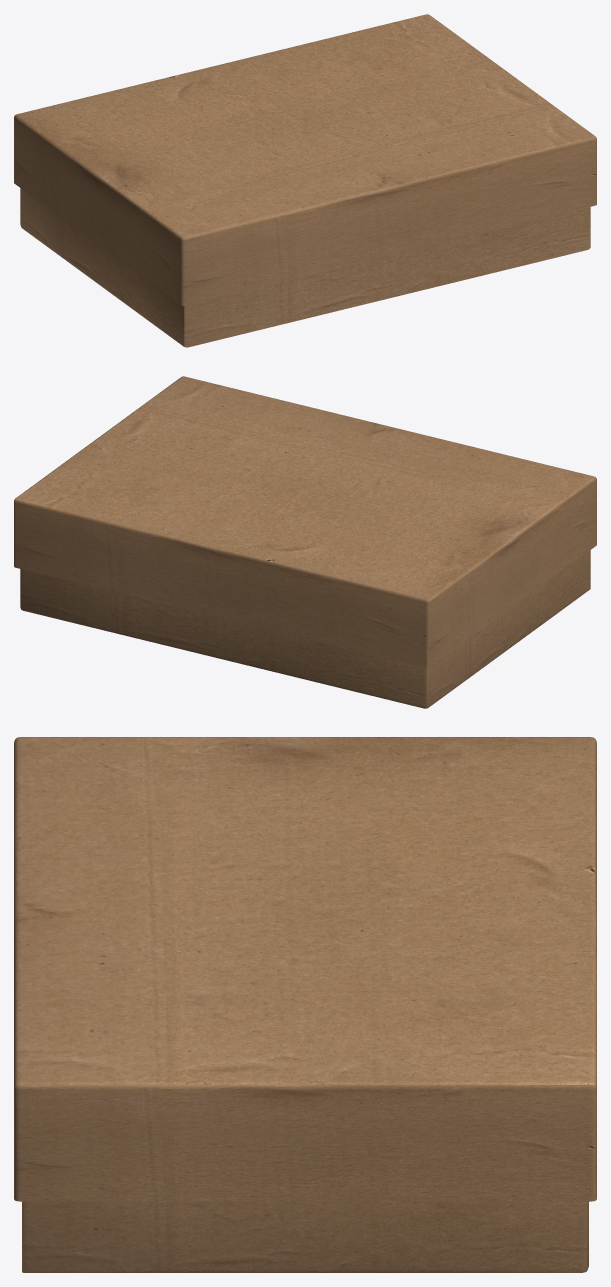
The model's file is NMCPlayerCookieBoxV1.fbx.
The picture shows the model from 3 angles, top to bottom: view 1: azimuth 30°, elevation 25°; view 2: azimuth 150°, elevation 25°; view 3: azimuth 270°, elevation 25°; orthographic projection. The views are drawn at different scales.
Visible parts, largest first — view 1: Box001; view 2: Box001; view 3: Box001.
Part boxes in pixels (<box>): Box001: <box>14,14,596,347</box>; Box001: <box>14,376,596,708</box>; Box001: <box>14,737,596,1272</box>.
Bounding box in the file's own units: 51 × 13.25 × 36.
Materials: 1 (1 with a texture image).
